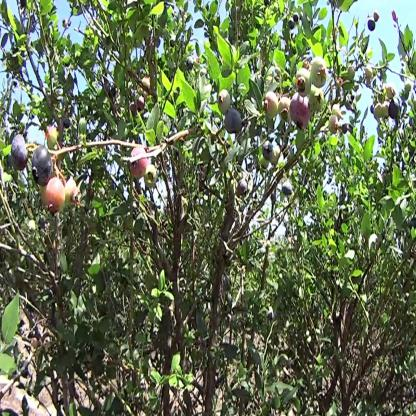intermediate: (39, 177, 65, 210), (130, 146, 149, 179), (265, 91, 280, 118), (45, 127, 59, 149), (329, 114, 339, 132), (130, 103, 137, 118), (142, 77, 151, 88), (375, 10, 380, 22)
mature: (291, 94, 312, 130), (33, 149, 52, 186), (10, 136, 29, 173), (224, 110, 243, 135), (261, 140, 274, 160), (389, 99, 401, 118), (238, 181, 249, 197), (289, 13, 299, 29), (283, 181, 294, 194), (138, 97, 145, 112), (369, 18, 377, 31), (187, 57, 194, 70)
young: (312, 56, 327, 87), (297, 68, 313, 96), (310, 87, 326, 113), (66, 178, 80, 206), (219, 90, 231, 115), (281, 99, 293, 122), (145, 165, 156, 188), (375, 103, 390, 118), (332, 105, 342, 119), (348, 66, 356, 83), (388, 84, 397, 99), (367, 65, 375, 80), (261, 156, 269, 169)
